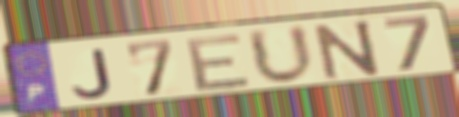7: (379, 13, 436, 74), (123, 37, 177, 99)
E: (184, 31, 255, 94)
J: (69, 47, 116, 101)
N: (311, 17, 384, 82)
U: (243, 22, 319, 87)
